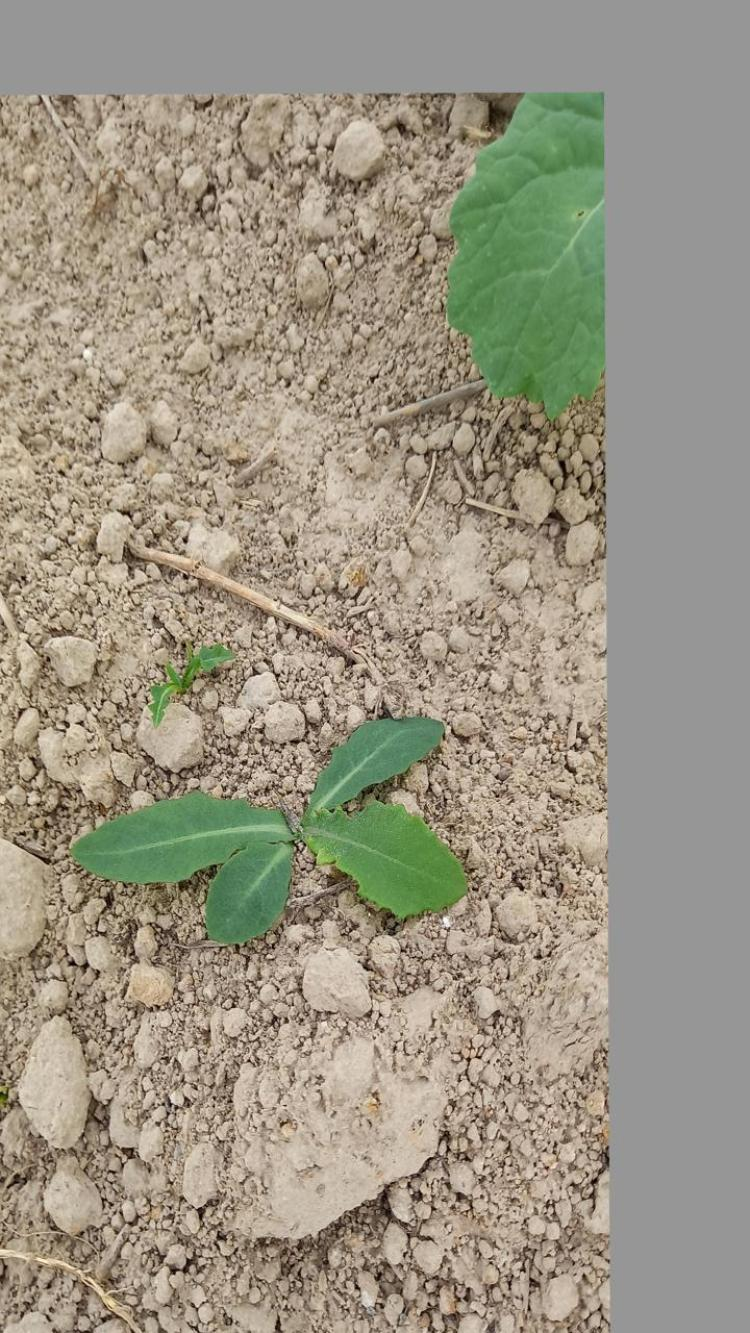bodyak: (73, 706, 479, 950)
